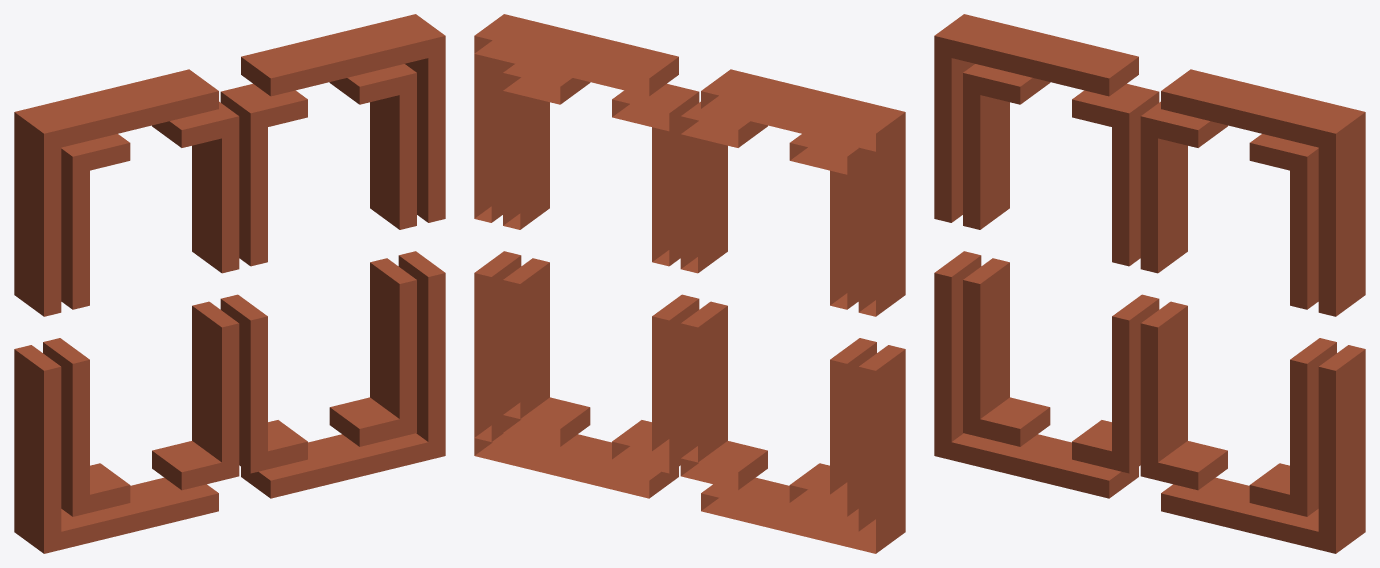
File: construction_0.glb
The picture shows the model from 3 angles, left to right: view 1: azimuth 30°, elevation 25°; view 2: azimuth 150°, elevation 25°; view 3: azimuth 330°, elevation 25°; orthographic projection.
Parts seen in each view (by area): view 1: c0; view 2: c0; view 3: c0.
Part boxes in pixels (x1=…): c0: x1=14, y1=14, x2=445, y2=553; c0: x1=474, y1=14, x2=905, y2=553; c0: x1=934, y1=14, x2=1365, y2=553.
Bounding box in the file's own units: 14 × 14 × 1.8.
